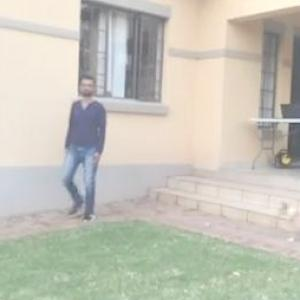follow: (71, 67, 119, 229)
